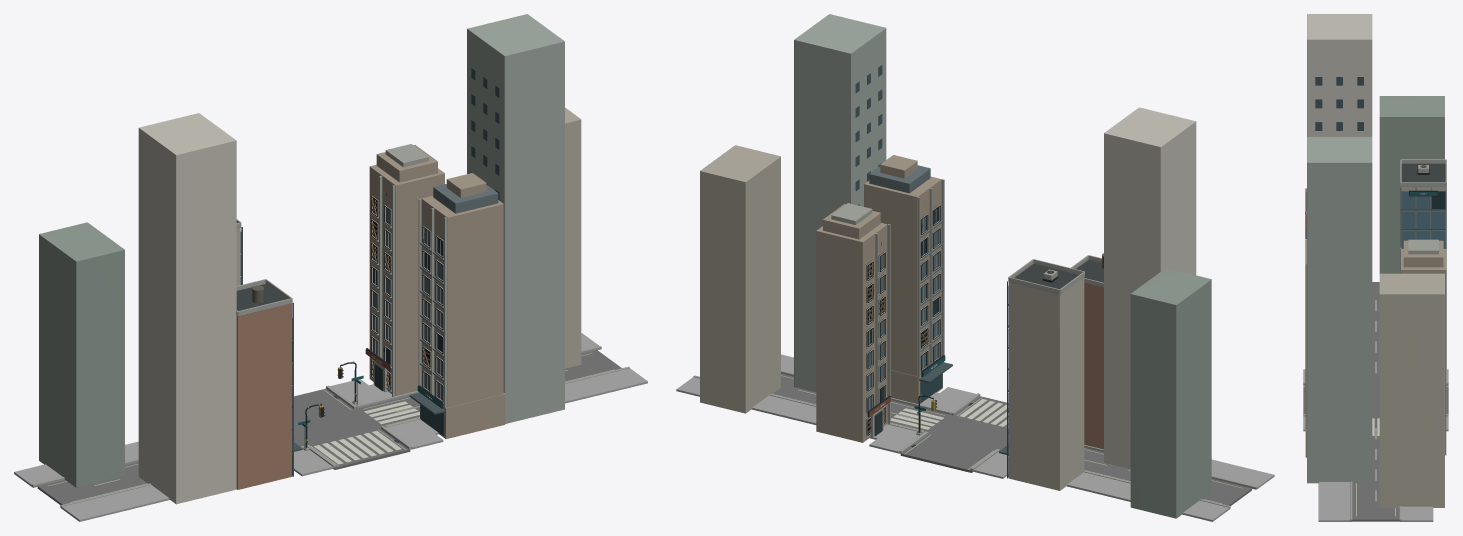
File: city_hd_05.glb
3 views of the same model, side by side, from view 1: azimuth 30°, elevation 25°; view 2: azimuth 150°, elevation 25°; view 3: azimuth 270°, elevation 25° (orthographic). The views are drawn at different scales.
Parts seen in each view (by area): view 1: CITY_realwall_c8c5bb, CITY_realwall_a3aea6, CITY_realwall_a99d8c, CITY_realwall_929f96, CITY_realwall_a5826d, CITY_PBR_asphalt, CITY_PBR_pavement, CITY_trim, CITY_realwall_b7b2a5, CITY_recess, CITY_frame, CITY_zebra_paint (+4 smaller); view 2: CITY_realwall_b7b2a5, CITY_realwall_a99d8c, CITY_realwall_a3aea6, CITY_realwall_c8c5bb, CITY_realwall_929f96, CITY_PBR_asphalt, CITY_PBR_pavement, CITY_trim, CITY_realwall_a5826d, CITY_recess, CITY_frame, CITY_curb (+5 smaller); view 3: CITY_realwall_a3aea6, CITY_realwall_b7b2a5, CITY_realwall_c8c5bb, CITY_realwall_929f96, CITY_PBR_asphalt, CITY_PBR_pavement, CITY_realwall_a99d8c, CITY_office_glass, CITY_trim, CITY_roof, CITY_office_frame, CITY_distant_window (+3 smaller).
Boxes of the visible parts, x1,y1,x2,y2 form: CITY_realwall_c8c5bb: (138, 113, 236, 504); CITY_realwall_a3aea6: (467, 14, 564, 423); CITY_realwall_a99d8c: (369, 145, 505, 438); CITY_realwall_929f96: (39, 222, 124, 487); CITY_realwall_a5826d: (236, 303, 291, 489); CITY_PBR_asphalt: (37, 350, 621, 505); CITY_PBR_pavement: (14, 333, 647, 521); CITY_trim: (236, 144, 447, 408); CITY_realwall_b7b2a5: (236, 107, 581, 368); CITY_recess: (371, 196, 443, 402); CITY_frame: (371, 196, 443, 402); CITY_zebra_paint: (314, 401, 419, 464); CITY_realwall_b7b2a5: (700, 145, 1084, 490); CITY_realwall_a99d8c: (816, 155, 942, 442); CITY_realwall_a3aea6: (794, 14, 886, 392); CITY_realwall_c8c5bb: (1104, 107, 1196, 468); CITY_realwall_929f96: (1130, 268, 1211, 518); CITY_PBR_asphalt: (773, 373, 1251, 505); CITY_PBR_pavement: (676, 354, 1274, 521); CITY_trim: (831, 179, 1103, 437); CITY_realwall_a5826d: (1084, 283, 1103, 449); CITY_recess: (866, 205, 940, 435); CITY_frame: (866, 205, 940, 435); CITY_curb: (693, 370, 1257, 508); CITY_realwall_a3aea6: (1307, 137, 1372, 483); CITY_realwall_b7b2a5: (1379, 187, 1445, 507); CITY_realwall_c8c5bb: (1307, 14, 1372, 136); CITY_realwall_929f96: (1379, 96, 1444, 273); CITY_PBR_asphalt: (1303, 282, 1448, 521); CITY_PBR_pavement: (1303, 369, 1448, 521); CITY_realwall_a99d8c: (1305, 240, 1446, 457); CITY_office_glass: (1306, 191, 1445, 248); CITY_trim: (1305, 159, 1446, 405); CITY_roof: (1306, 163, 1445, 215); CITY_office_frame: (1305, 187, 1446, 368); CITY_distant_window: (1315, 77, 1363, 130).
Size of the model in its own units: 63 by 39.26 by 16.
